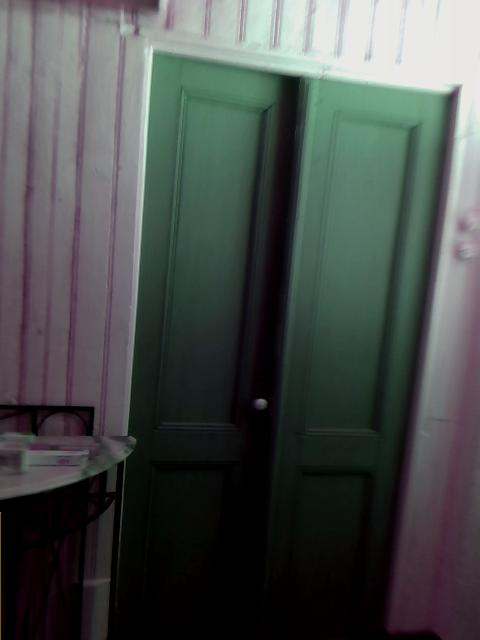closed_door: (105, 44, 463, 638)
